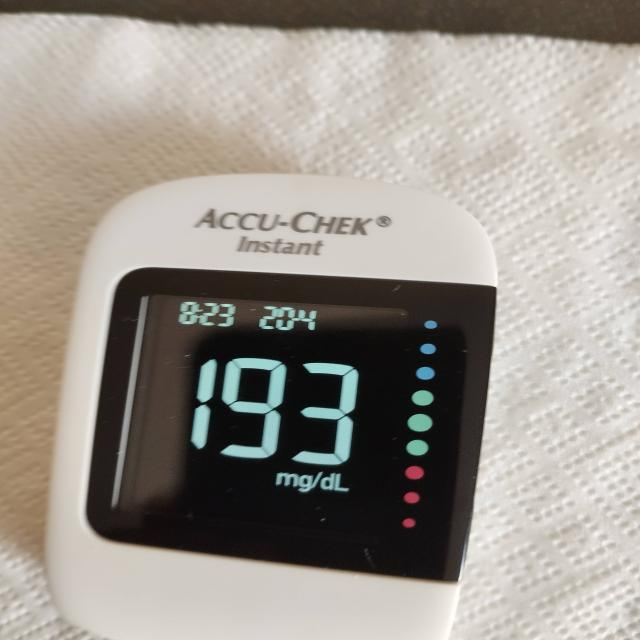gluco: (45, 175, 499, 640)
